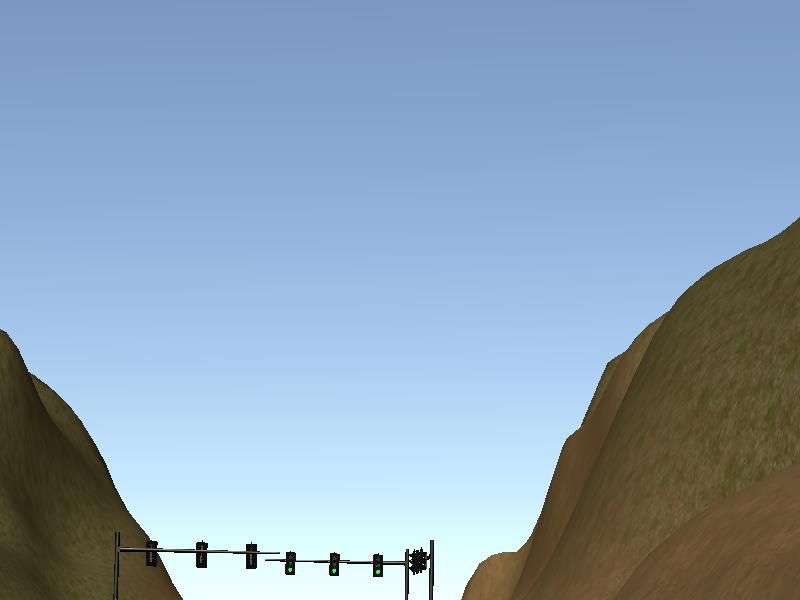green_light: (285, 553, 296, 576), (372, 555, 383, 577), (330, 553, 340, 577)
